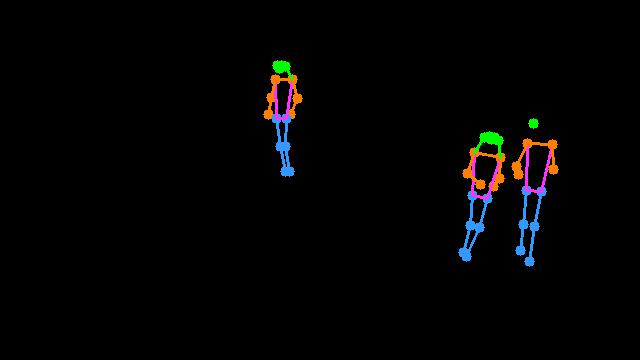normal: (441, 98, 567, 284)
